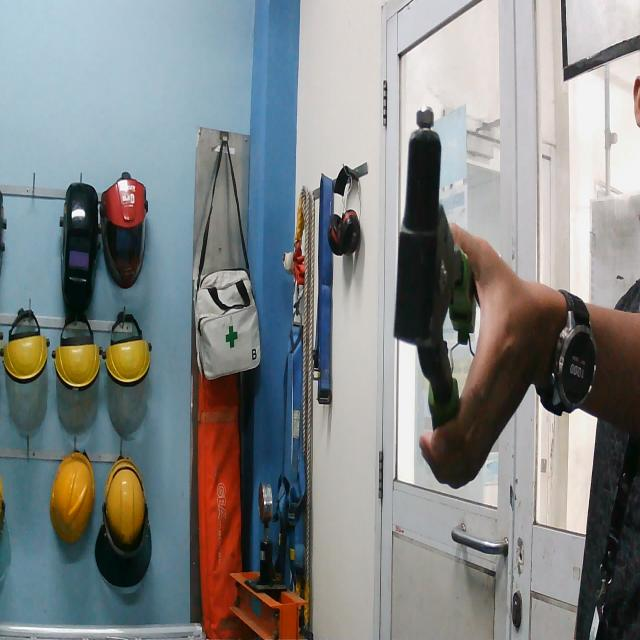tang_rivet: (389, 92, 505, 482)
